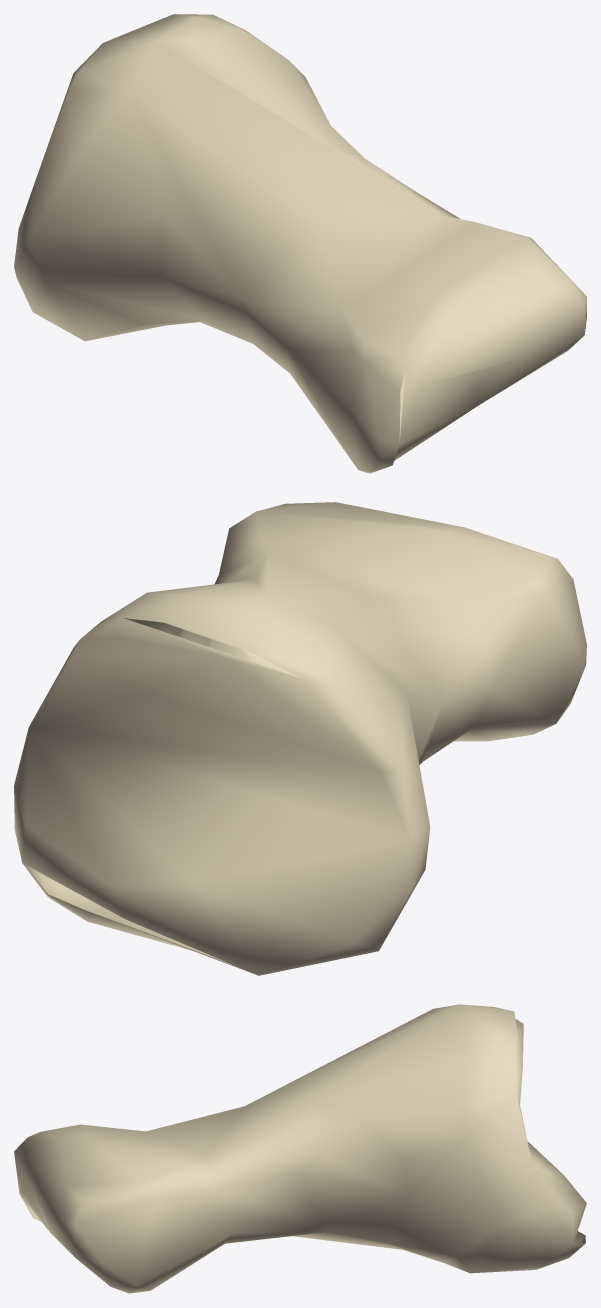
Rendered from esqueleto-middle-phalanx-of-third-finger-of-foot-l.glb.
3 views of the same model, one above another, from view 1: azimuth 30°, elevation 25°; view 2: azimuth 150°, elevation 25°; view 3: azimuth 270°, elevation 25° (orthographic). The views are drawn at different scales.
Visible parts, largest first — view 1: Middle phalanx of third finger of foot.l; view 2: Middle phalanx of third finger of foot.l; view 3: Middle phalanx of third finger of foot.l.
Boxes of the visible parts, x1,y1,x2,y2 form: Middle phalanx of third finger of foot.l: (14, 14, 586, 473); Middle phalanx of third finger of foot.l: (14, 502, 586, 975); Middle phalanx of third finger of foot.l: (14, 1004, 586, 1293).
Size of the model in its own units: 0.0111 by 0.0083 by 0.0174.
